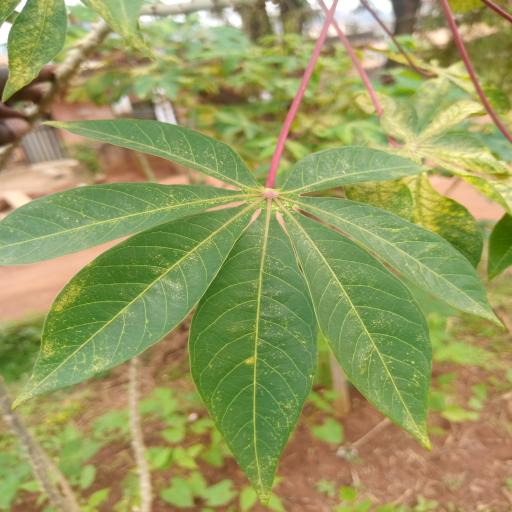Cassava_Mosaic: (2, 115, 512, 492)
